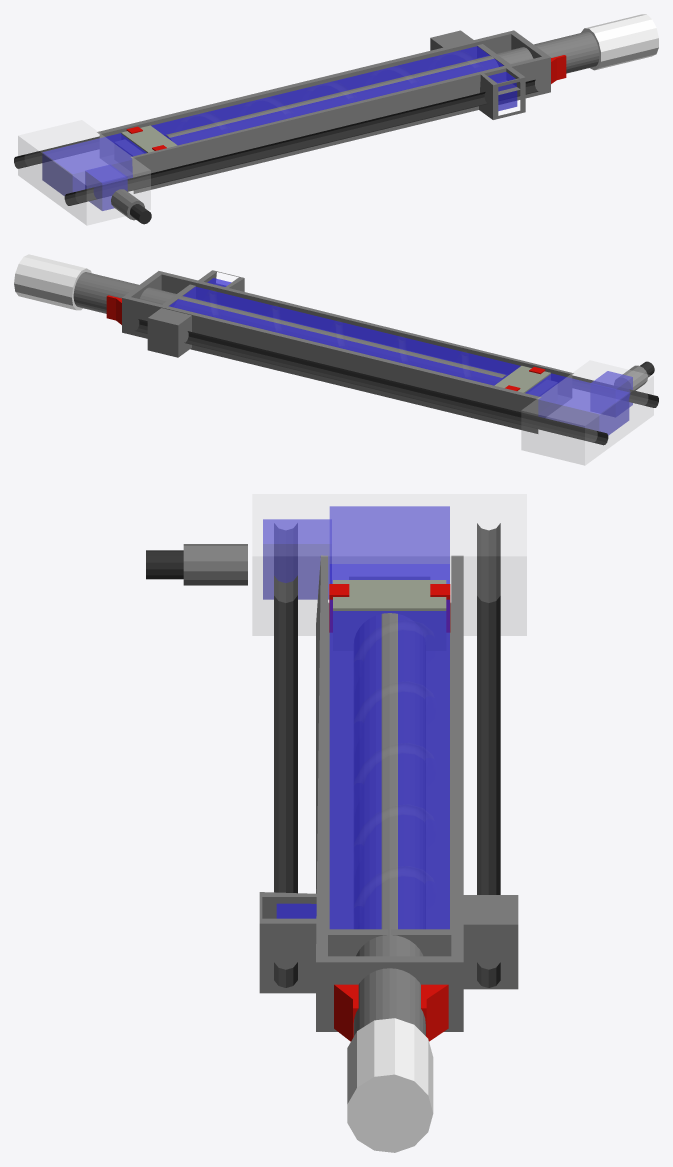
The model's file is Actuador de doble efecto v3 (Sin resort).glb.
3 views of the same model, one above another, from view 1: azimuth 30°, elevation 25°; view 2: azimuth 150°, elevation 25°; view 3: azimuth 270°, elevation 25° (orthographic). The views are drawn at different scales.
Parts seen in each view (by area): view 1: Cube.001, W, Cube.002, Cube, Circle.001, Cube.005, W.001, W.002, Cylinder.002, Cube.007, Cube.006; view 2: Cube.001, W, Cube.002, Cube, Circle.001, Cube.007, W.001, Cylinder.002, Cube.005, Cube.006; view 3: W, Cube.002, Cube.001, Cube, Circle.001, Cube.005, Cube.007, W.001, Cylinder.002, Cube.006, Cylinder.003.
Part boxes in pixels (x1,y1,x2,y2): Cube.001: (97,30,550,193); W: (42,46,503,195); Cube.002: (114,14,658,171); Cube: (18,120,150,225); Circle.001: (14,79,538,205); Cube.005: (479,67,525,119); W.001: (85,164,127,210); W.002: (488,72,517,111); Cylinder.002: (111,189,144,220); Cube.007: (430,30,473,50); Cube.006: (551,55,566,83); Cube.001: (122,271,573,433); W: (169,286,629,435); Cube.002: (14,254,557,412); Cube: (521,360,653,465); Circle.001: (135,319,658,445); Cube.007: (147,308,191,357); W.001: (591,371,632,407); Cylinder.002: (614,365,647,390); Cube.005: (196,270,244,291); Cube.006: (106,295,121,324); W: (329,506,449,929); Cube.002: (333,577,446,1152); Cube.001: (316,555,463,1031); Cube: (252,494,526,635); Circle.001: (274,523,500,987); Cube.005: (259,892,325,993); Cube.007: (463,895,518,989); W.001: (263,519,331,599); Cylinder.002: (183,544,247,585); Cube.006: (334,984,448,1041); Cylinder.003: (146,550,183,579).
Size of the model in its own units: 18.94 by 1.51 by 5.17.
